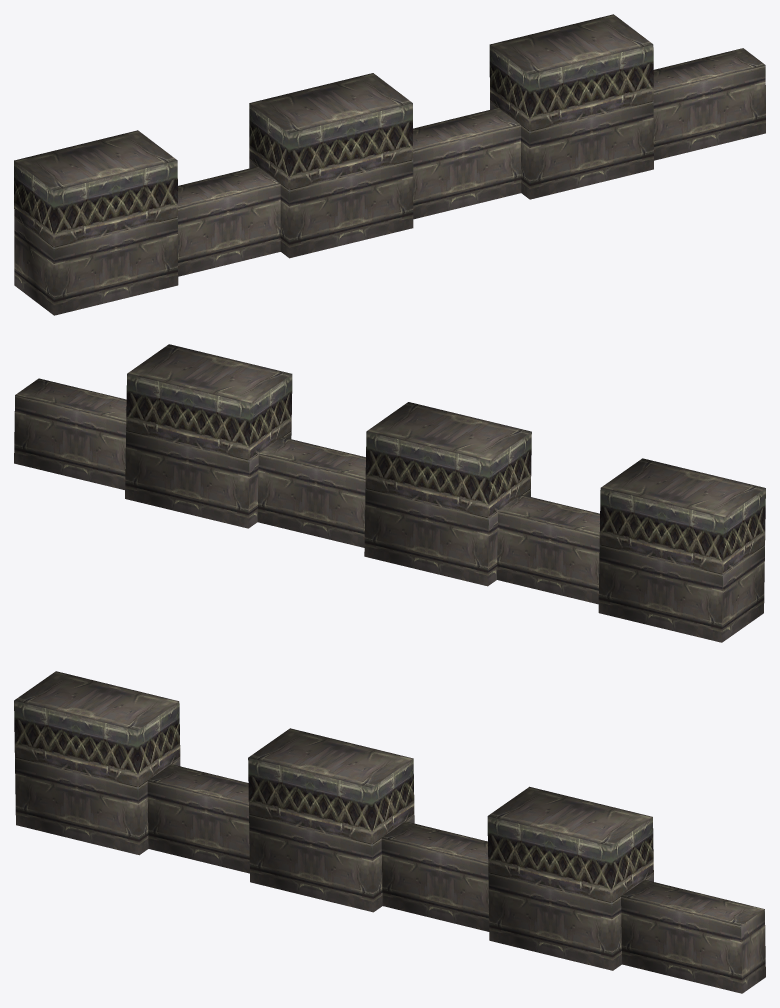
The model's file is S_Build_Muxue006.FBX.
The picture shows the model from 3 angles, top to bottom: view 1: azimuth 30°, elevation 25°; view 2: azimuth 150°, elevation 25°; view 3: azimuth 330°, elevation 25°; orthographic projection.
Visible parts, largest first — view 1: S_Build_Muxue006; view 2: S_Build_Muxue006; view 3: S_Build_Muxue006.
Boxes of the visible parts, box(x1,y1,x2,y2) form: S_Build_Muxue006: box(14, 14, 765, 315); S_Build_Muxue006: box(14, 344, 765, 642); S_Build_Muxue006: box(14, 671, 765, 993).
Size of the model in its own units: 763 by 77.92 by 128.
